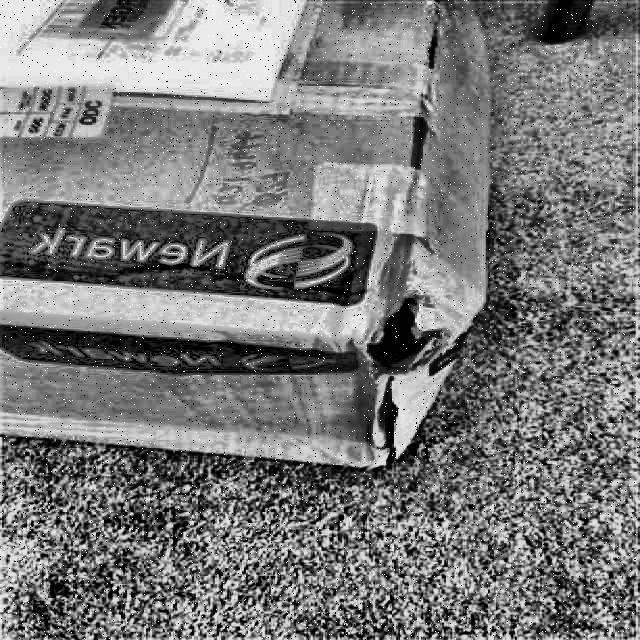box: (1, 0, 497, 481)
hole: (358, 291, 441, 389)
